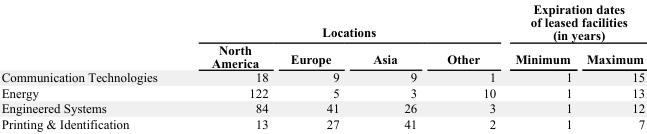table: (0, 1, 644, 130)
table column: (0, 1, 183, 130), (183, 1, 278, 130), (278, 1, 355, 130), (355, 1, 431, 130), (504, 1, 578, 130), (431, 1, 504, 130), (578, 1, 644, 130)
table column header: (0, 1, 644, 69)
table row: (0, 1, 644, 42), (0, 42, 644, 69), (0, 84, 644, 100), (0, 69, 644, 84), (0, 100, 644, 115), (0, 115, 644, 130)
table spanning cell: (183, 1, 504, 42), (504, 1, 644, 42)
